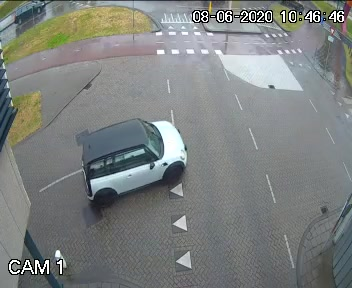car: (55, 100, 203, 214), (9, 0, 54, 26)
